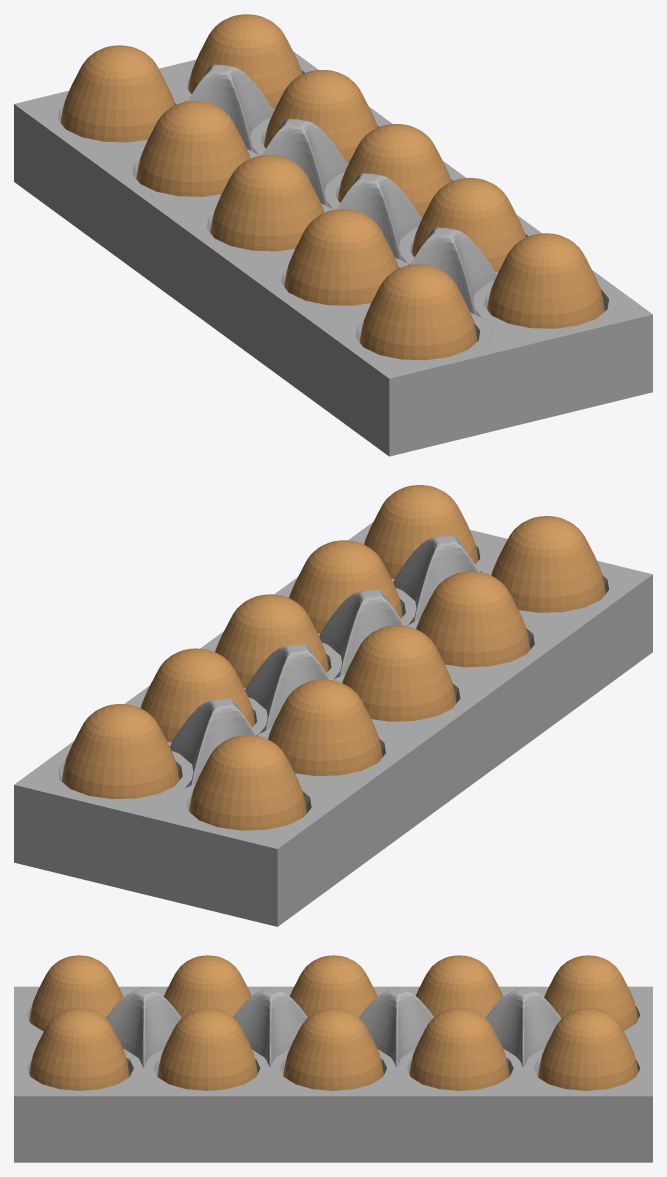
File: Лоток яиц.fbx
3 views of the same model, one above another, from view 1: azimuth 30°, elevation 25°; view 2: azimuth 150°, elevation 25°; view 3: azimuth 270°, elevation 25° (orthographic). The views are drawn at different scales.
Visible parts, largest first — view 1: Cube.016; view 2: Cube.016; view 3: Cube.016.
Part boxes in pixels (bbox=[...]): Cube.016: bbox=[14, 14, 652, 456]; Cube.016: bbox=[14, 485, 652, 926]; Cube.016: bbox=[14, 955, 652, 1162].
Size of the model in its own units: 38.71 by 20.11 by 95.47.
